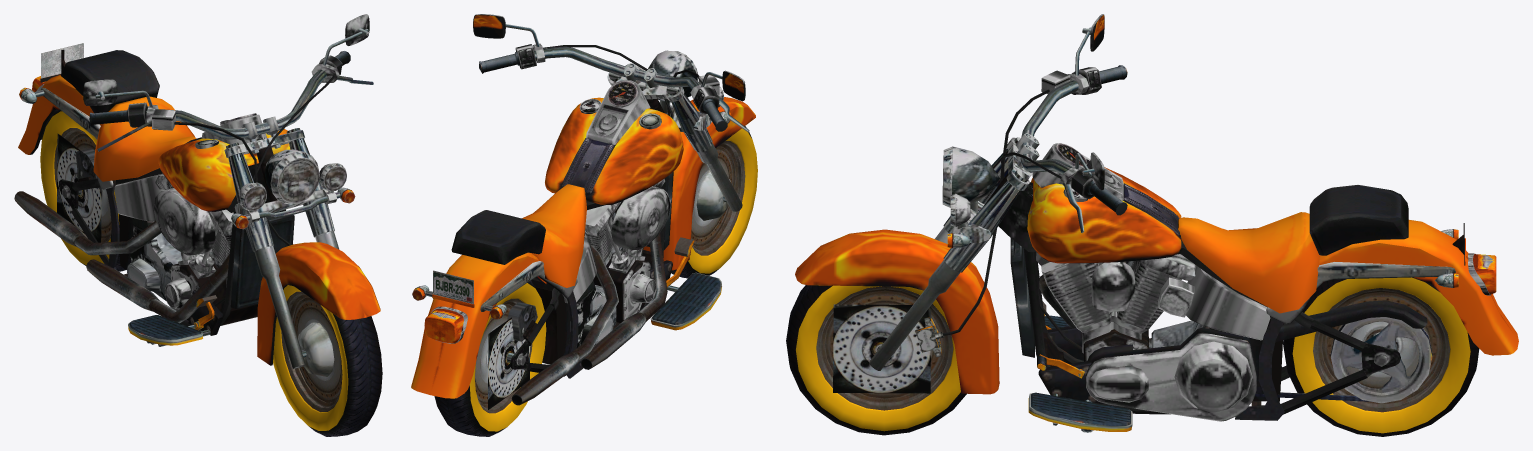
3 renders of one model, left to right at view 1: azimuth 30°, elevation 25°; view 2: azimuth 150°, elevation 25°; view 3: azimuth 270°, elevation 25°, orthographic. The views are drawn at different scales.
Bounding box in the file's own units: 236 × 245 × 475.
Materials: 6 (6 with a texture image).
